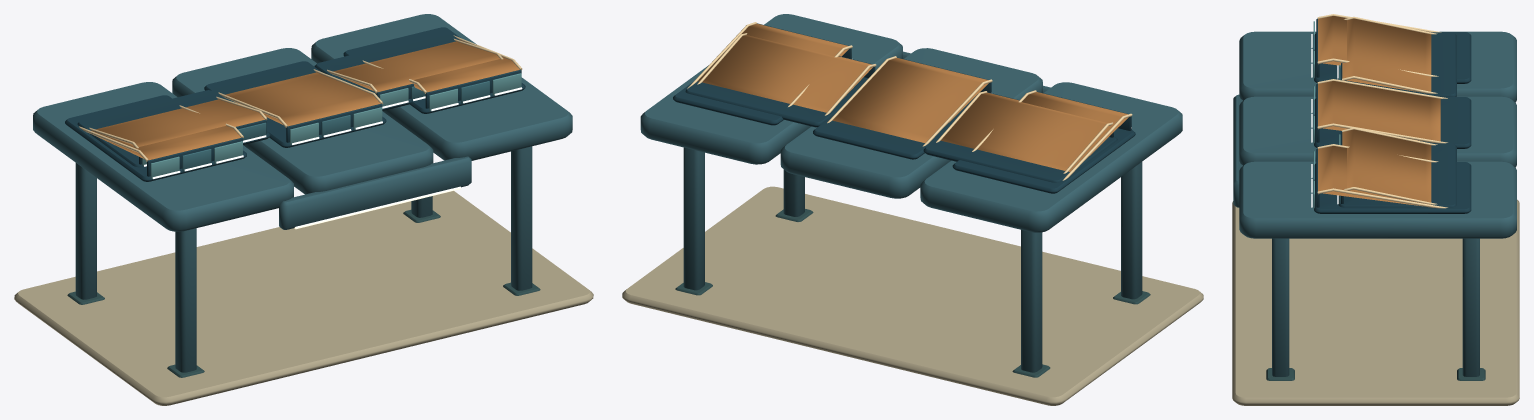
File: harbor_fuel.glb
The picture shows the model from 3 angles, left to right: view 1: azimuth 30°, elevation 25°; view 2: azimuth 150°, elevation 25°; view 3: azimuth 270°, elevation 25°; orthographic projection. The views are drawn at different scales.
Parts seen in each view (by area): view 1: HarborFuel; view 2: HarborFuel; view 3: HarborFuel.
Part boxes in pixels (<box>): HarborFuel: <box>14,14,593,405</box>; HarborFuel: <box>622,14,1203,405</box>; HarborFuel: <box>1232,14,1519,405</box>.
Size of the model in its own units: 8.48 by 3.92 by 5.02.
